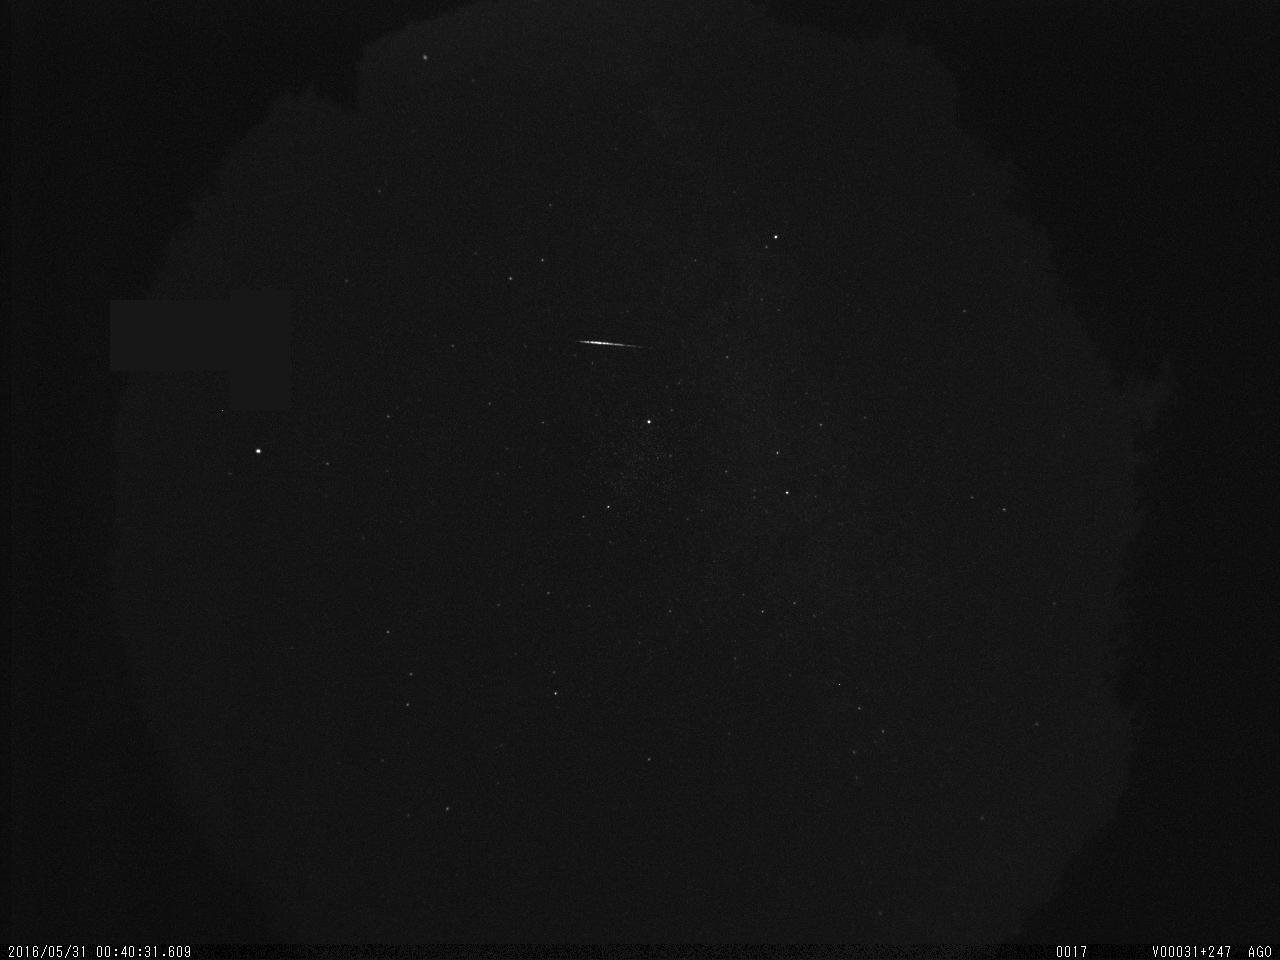meteor: (570, 324, 654, 373)
